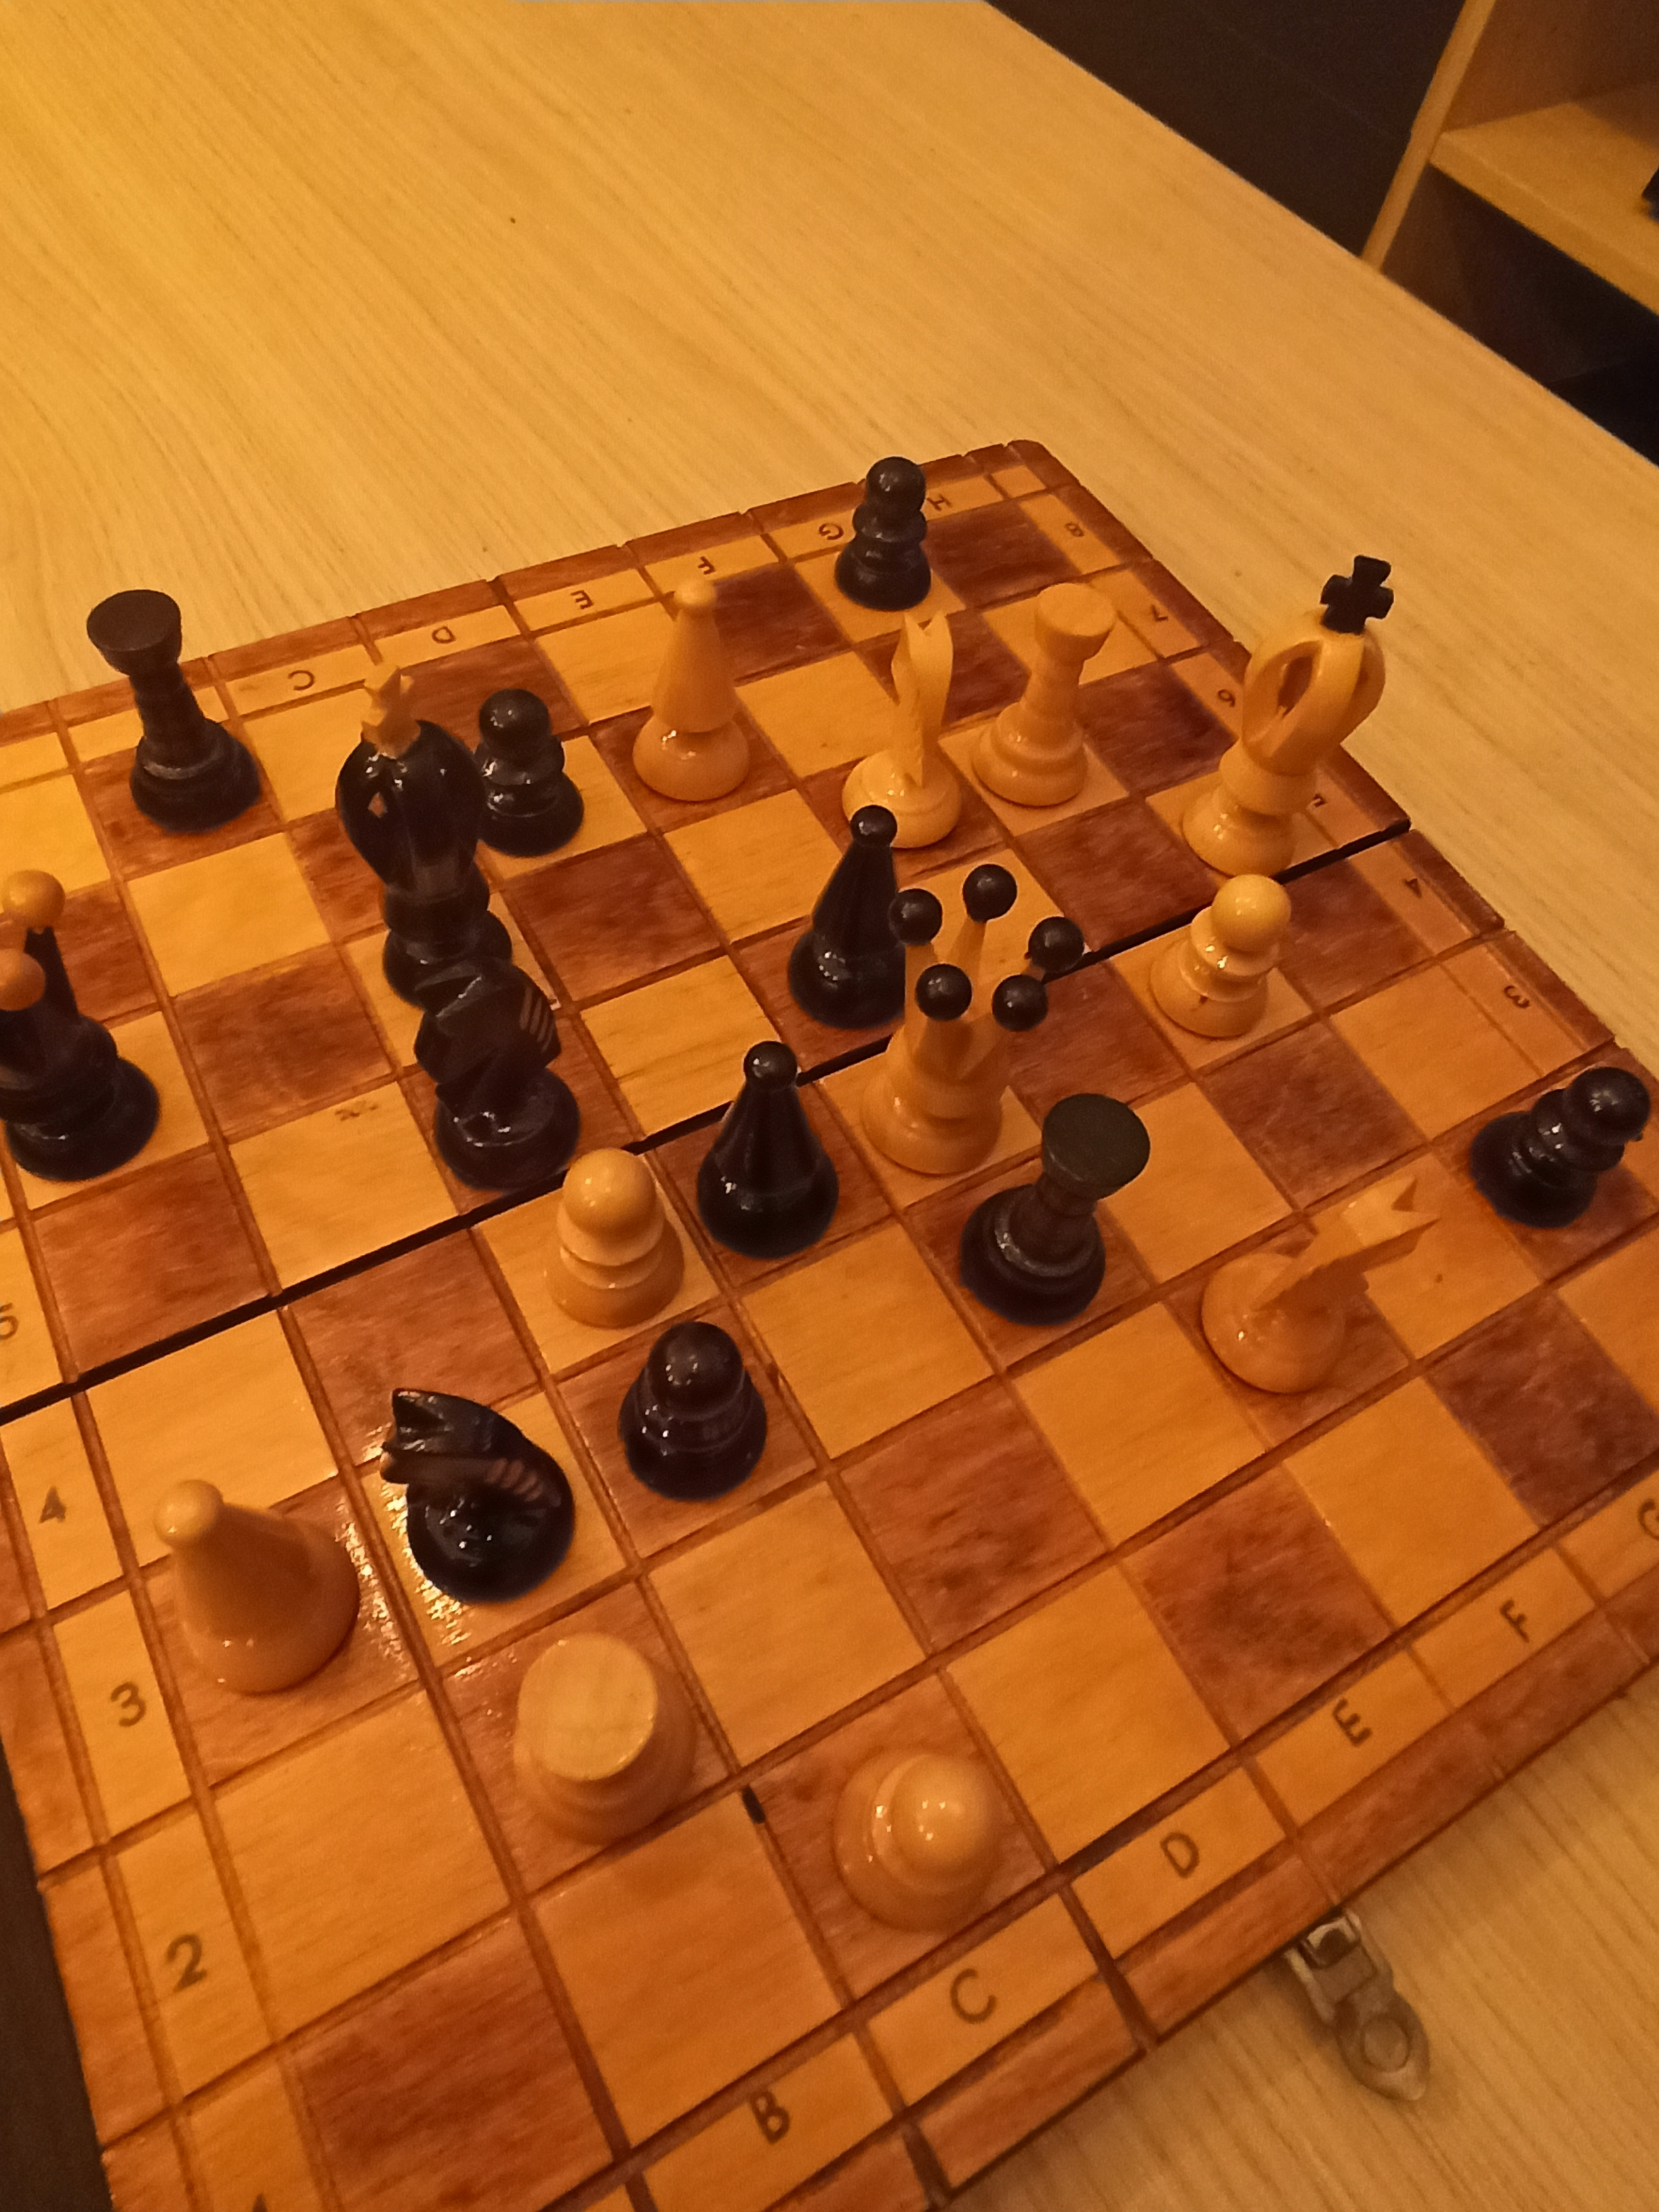bbishop: (694, 1038, 850, 1263), (784, 806, 922, 1038)
bking: (328, 657, 512, 1005)
bknight: (413, 961, 606, 1216), (378, 1390, 601, 1608)
bpawn: (1467, 1066, 1654, 1237), (622, 1318, 774, 1503), (455, 685, 598, 864), (831, 449, 934, 617)
bqueen: (0, 873, 162, 1183)
brook: (964, 1087, 1154, 1332), (85, 589, 274, 834)
wbishop: (152, 1474, 349, 1696), (634, 566, 753, 806)
wking: (1182, 557, 1403, 880)
wknight: (1199, 1167, 1425, 1411), (845, 617, 967, 860)
wpawn: (831, 1742, 1009, 1937), (542, 1150, 690, 1329), (1147, 874, 1297, 1045)
wqueen: (856, 866, 1086, 1181)
wrook: (974, 578, 1114, 810)
